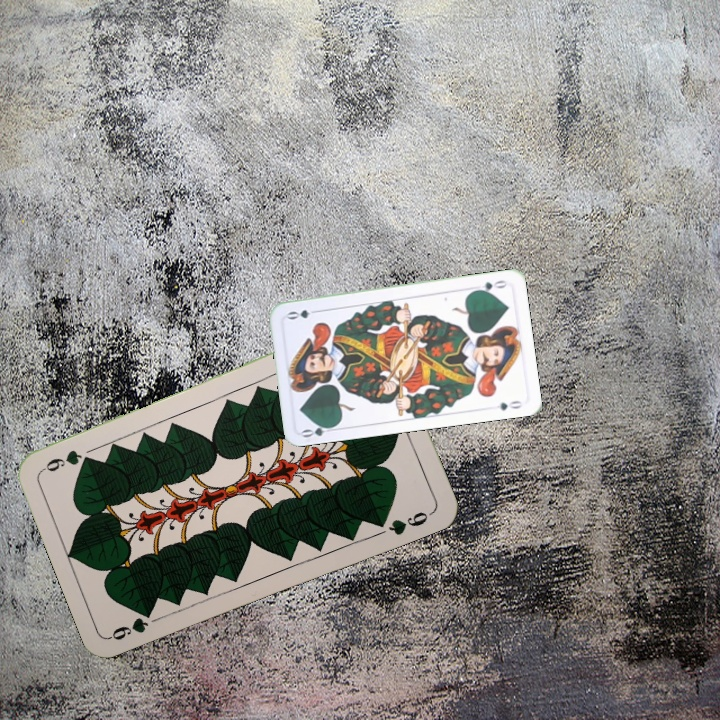G9: (107, 607, 155, 643)
GO: (298, 420, 339, 440), (470, 276, 509, 295)
